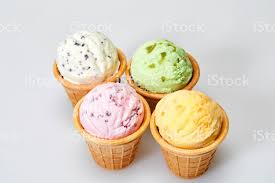ice-cream: (154, 91, 222, 148), (77, 84, 145, 139), (56, 31, 119, 83), (131, 41, 193, 92)
